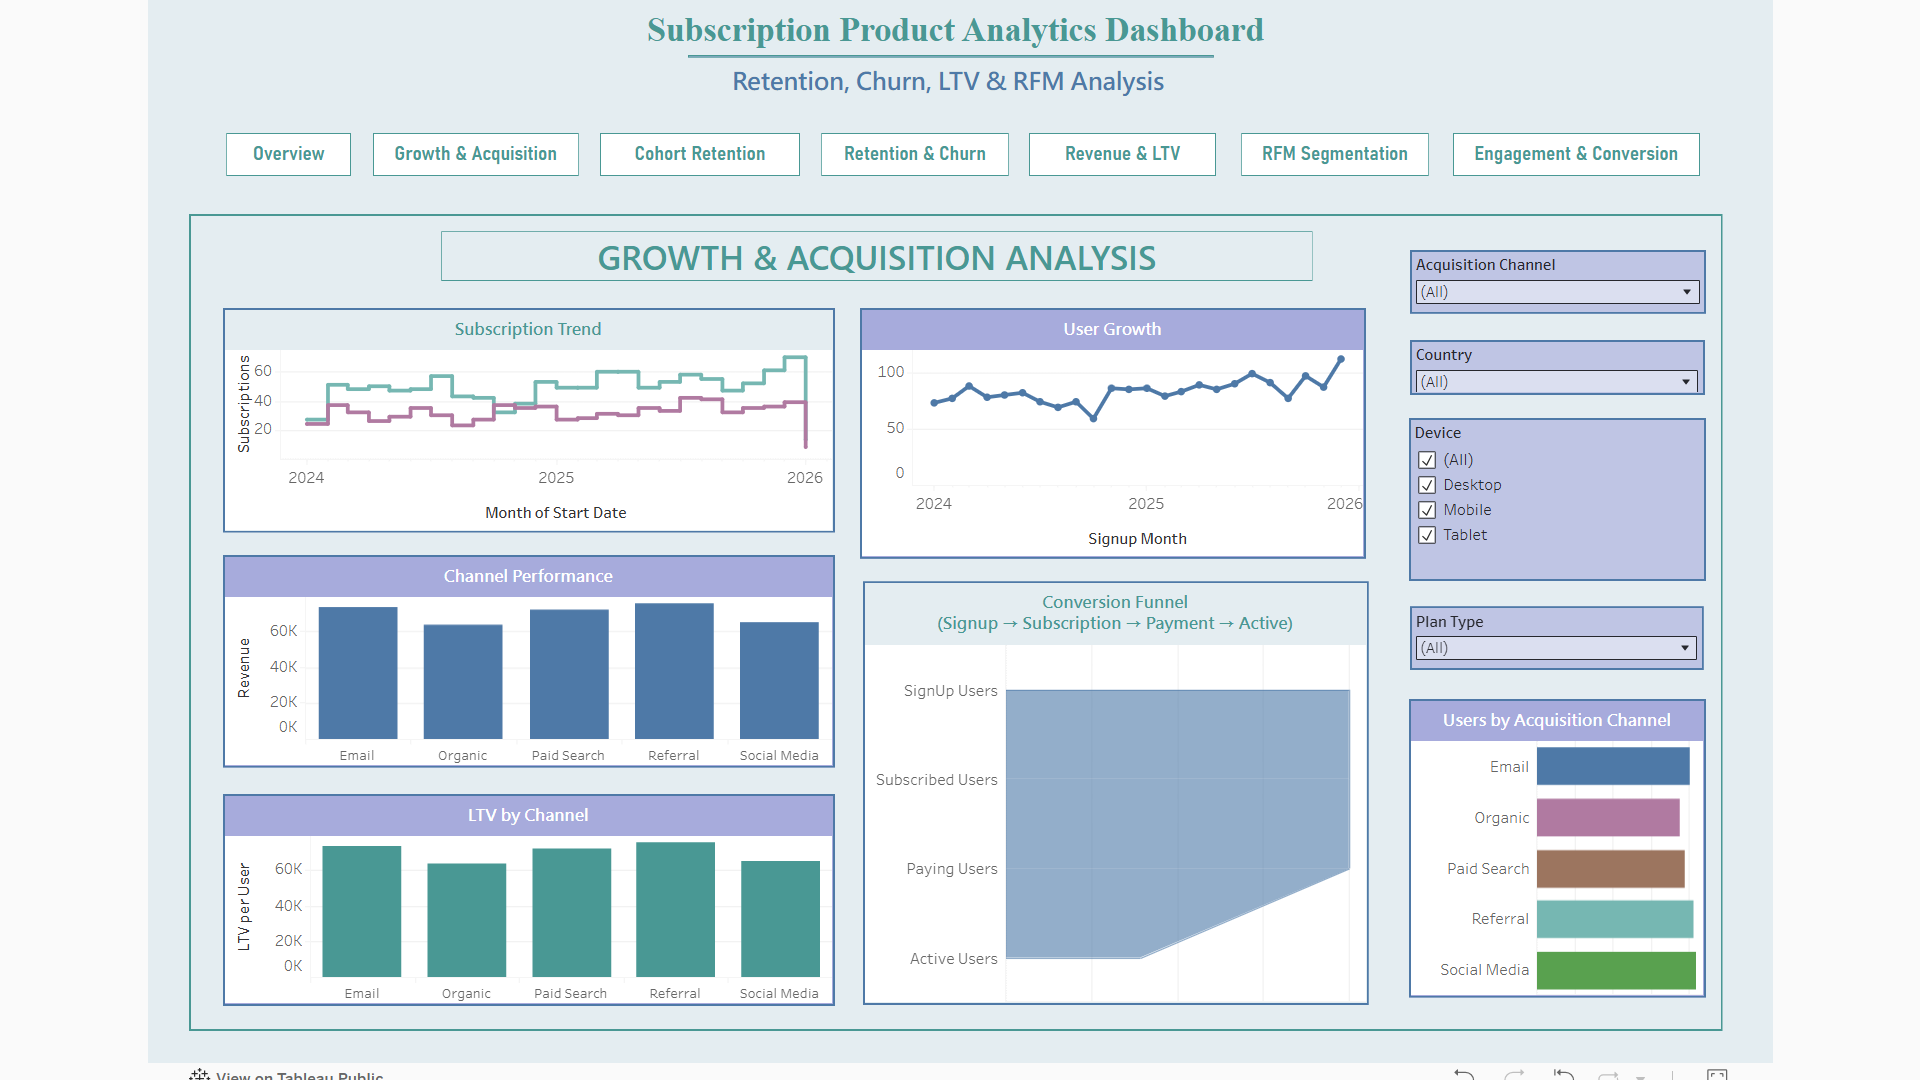

What the dashboard file says about the page in this screenshot:
{"tool":"tableau","page":{"name":"Growth & Acquisition","canvas":[1300,850],"ordinal":3},"visuals":[{"type":"blank","box":[432,44,421,2]},{"type":"text","box":[347,50,587,28]},{"type":"blank","box":[56,99,1191,45]},{"type":"dashboard-object","box":[63,106,100,35]},{"type":"dashboard-object","box":[180,106,165,35]},{"type":"dashboard-object","box":[362,106,160,35]},{"type":"dashboard-object","box":[539,106,150,35]},{"type":"dashboard-object","box":[705,106,150,35]},{"type":"dashboard-object","box":[875,106,150,35]},{"type":"dashboard-object","box":[1044,106,198,35]},{"type":"blank","box":[33,171,1227,654]},{"type":"text","box":[235,185,697,40]},{"type":"filter","title":"Users By Channel","param":"[federated.1vvcbkb1517lao19svhhh0a2soji].[none:Acquisition_Channel:nk]","box":[1010,200,237,51]},{"type":"worksheet","title":"Subscription Trend","mark":"Automatic","rows":["Calculation_1112952098206760967"],"cols":["Start_Date"],"box":[60,246,490,180]},{"type":"worksheet","title":"User Growth","mark":"Automatic","rows":["Calculation_1112952098143047680"],"cols":["Signup_Date"],"box":[570,246,405,201]},{"type":"filter","title":"Users By Channel","param":"[federated.1vvcbkb1517lao19svhhh0a2soji].[none:Country:nk]","box":[1010,272,236,44]},{"type":"filter","title":"Users By Channel","param":"[federated.1vvcbkb1517lao19svhhh0a2soji].[none:Device:nk]","box":[1009,334,238,131]},{"type":"worksheet","title":"Revenue by Channel","mark":"Automatic","rows":["Calculation_1112952098143449089"],"cols":["Acquisition_Channel"],"box":[60,444,490,170]},{"type":"worksheet","title":"Conversion Funnel","mark":"Area","box":[572,465,405,339]},{"type":"filter","title":"Users By Channel","param":"[federated.1vvcbkb1517lao19svhhh0a2soji].[none:Plan_Type:nk]","box":[1010,485,235,51]},{"type":"worksheet","title":"Users By Channel","mark":"Bar","rows":["Acquisition_Channel"],"cols":["Calculation_1112952098143047680"],"box":[1009,559,238,239]},{"type":"worksheet","title":"LTV by Channel","mark":"Automatic","rows":["Calculation_1112952098174984198"],"cols":["Acquisition_Channel"],"box":[60,635,490,170]}]}

Visuals, with their boxes on the page's 1300x850 design canvas (x1, y1, x2, y2). These are canvas units, not pixel positions in the 1920x1080 screenshot, which may show the page scaled, cropped or inside an application window:
blank: (x1=432, y1=44, x2=853, y2=46)
text: (x1=347, y1=50, x2=934, y2=78)
blank: (x1=56, y1=99, x2=1247, y2=144)
dashboard-object: (x1=63, y1=106, x2=163, y2=141)
dashboard-object: (x1=180, y1=106, x2=345, y2=141)
dashboard-object: (x1=362, y1=106, x2=522, y2=141)
dashboard-object: (x1=539, y1=106, x2=689, y2=141)
dashboard-object: (x1=705, y1=106, x2=855, y2=141)
dashboard-object: (x1=875, y1=106, x2=1025, y2=141)
dashboard-object: (x1=1044, y1=106, x2=1242, y2=141)
blank: (x1=33, y1=171, x2=1260, y2=825)
text: (x1=235, y1=185, x2=932, y2=225)
"Users By Channel" filter: (x1=1010, y1=200, x2=1247, y2=251)
"Subscription Trend" worksheet: (x1=60, y1=246, x2=550, y2=426)
"User Growth" worksheet: (x1=570, y1=246, x2=975, y2=447)
"Users By Channel" filter: (x1=1010, y1=272, x2=1246, y2=316)
"Users By Channel" filter: (x1=1009, y1=334, x2=1247, y2=465)
"Revenue by Channel" worksheet: (x1=60, y1=444, x2=550, y2=614)
"Conversion Funnel" worksheet (Area marks): (x1=572, y1=465, x2=977, y2=804)
"Users By Channel" filter: (x1=1010, y1=485, x2=1245, y2=536)
"Users By Channel" worksheet (Bar marks): (x1=1009, y1=559, x2=1247, y2=798)
"LTV by Channel" worksheet: (x1=60, y1=635, x2=550, y2=805)
